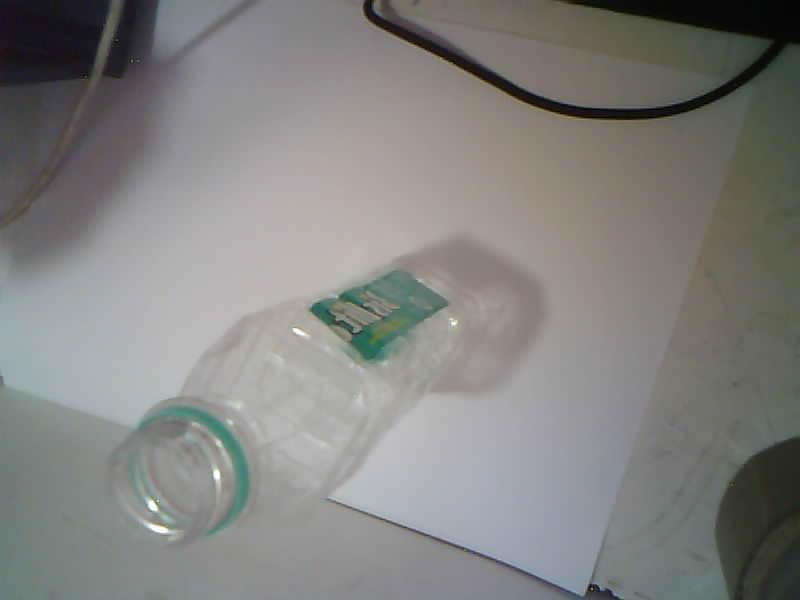non-biodegradable: (110, 267, 468, 545)
